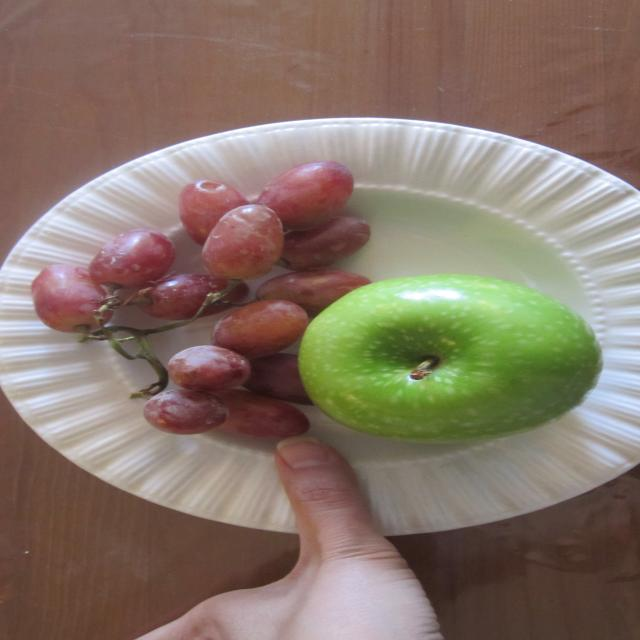apple: (304, 278, 611, 445)
grape: (8, 149, 298, 445)
